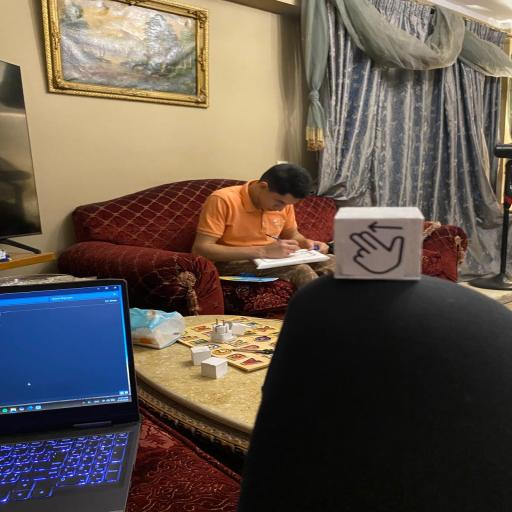LeftSwipe: (333, 206, 423, 280)
